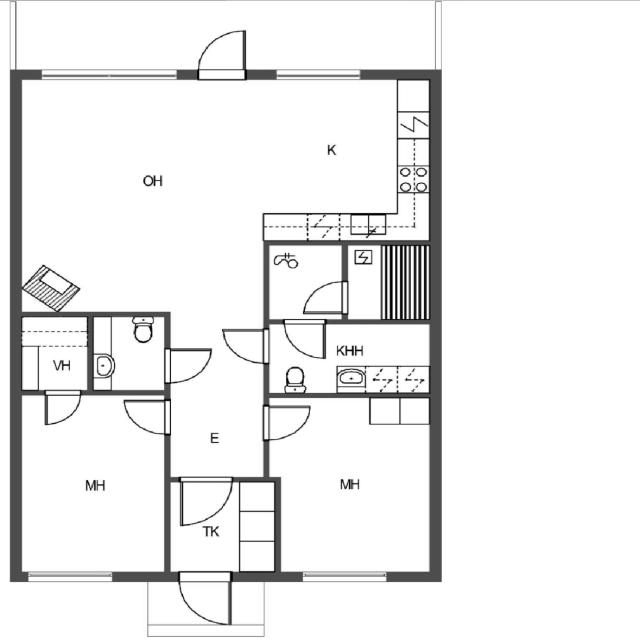door: (169, 475, 269, 574), (170, 475, 237, 529), (174, 570, 235, 627), (193, 25, 251, 81), (218, 322, 277, 368), (259, 399, 317, 443), (118, 394, 176, 437), (157, 344, 215, 386), (280, 317, 329, 363), (297, 278, 353, 317), (42, 389, 84, 426)
window: (33, 64, 184, 86), (20, 564, 123, 584), (292, 567, 399, 585), (269, 66, 370, 84)
zone: (18, 77, 431, 314), (269, 392, 439, 575), (18, 390, 169, 576), (265, 321, 437, 396), (164, 478, 278, 578), (90, 313, 168, 395), (268, 241, 346, 323), (18, 316, 89, 392)
